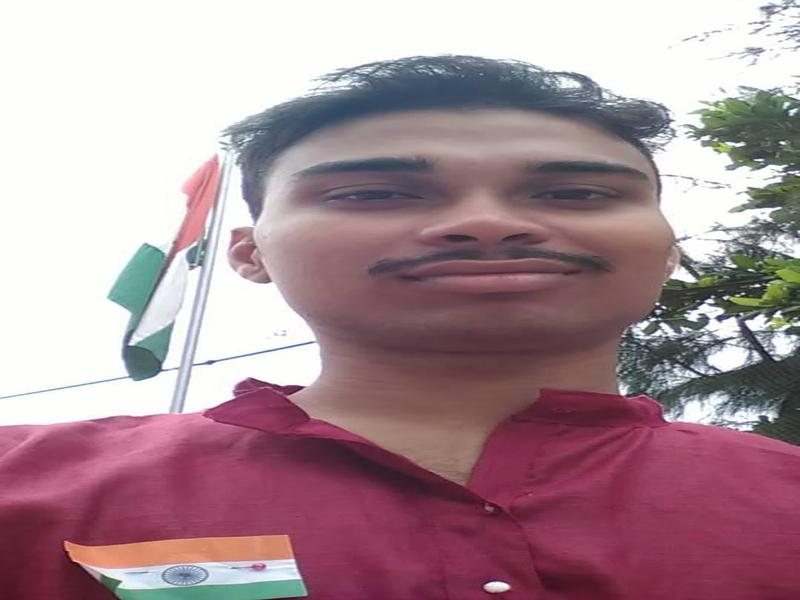without_mask: (255, 127, 672, 355)
